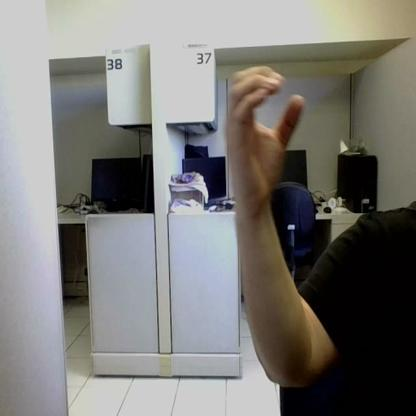C: (225, 66, 304, 200)
